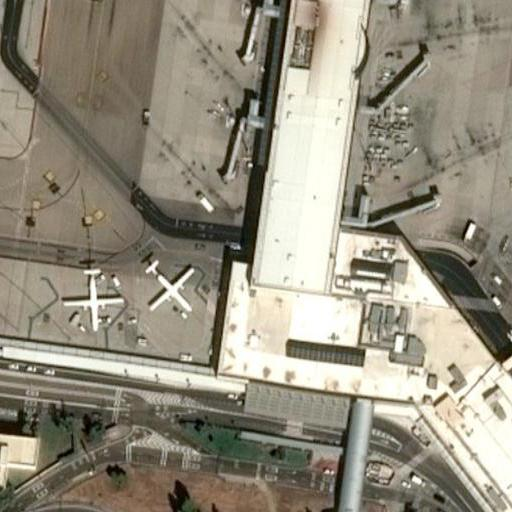Aircraft: (133, 254, 200, 321), (61, 263, 121, 337)
